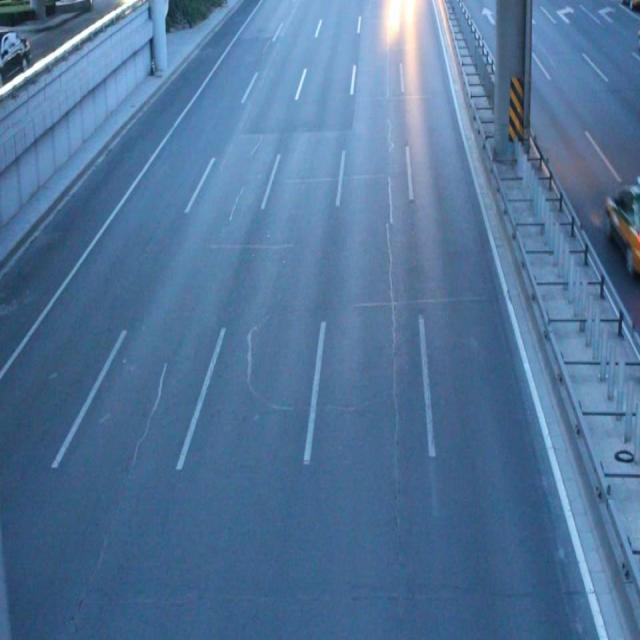car: (604, 173, 640, 279)
